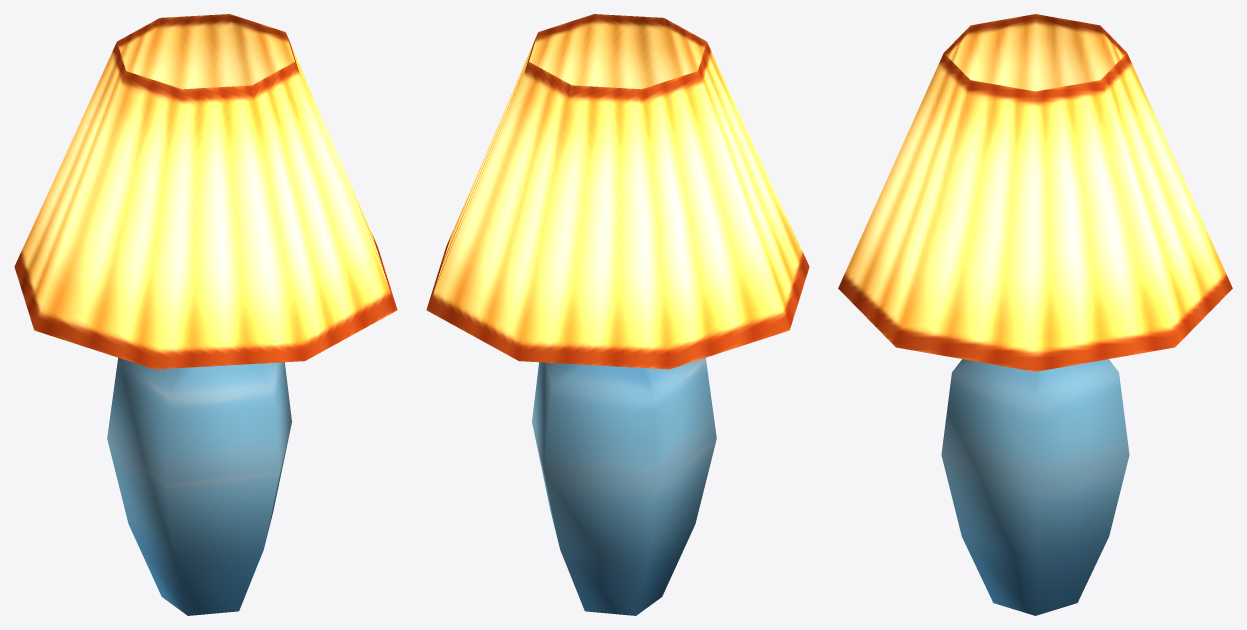
The model's file is ELT0110010.fbx.
3 views of the same model, side by side, from view 1: azimuth 30°, elevation 25°; view 2: azimuth 150°, elevation 25°; view 3: azimuth 270°, elevation 25° (orthographic).
Visible parts, largest first — view 1: smELT0110010; view 2: smELT0110010; view 3: smELT0110010.
Boxes of the visible parts, bbox=[...] form: smELT0110010: bbox=[14, 14, 397, 615]; smELT0110010: bbox=[426, 14, 809, 615]; smELT0110010: bbox=[838, 14, 1232, 615].
Size of the model in its own units: 38.67 by 58.85 by 38.67.
Materials: 1 (1 with a texture image).
